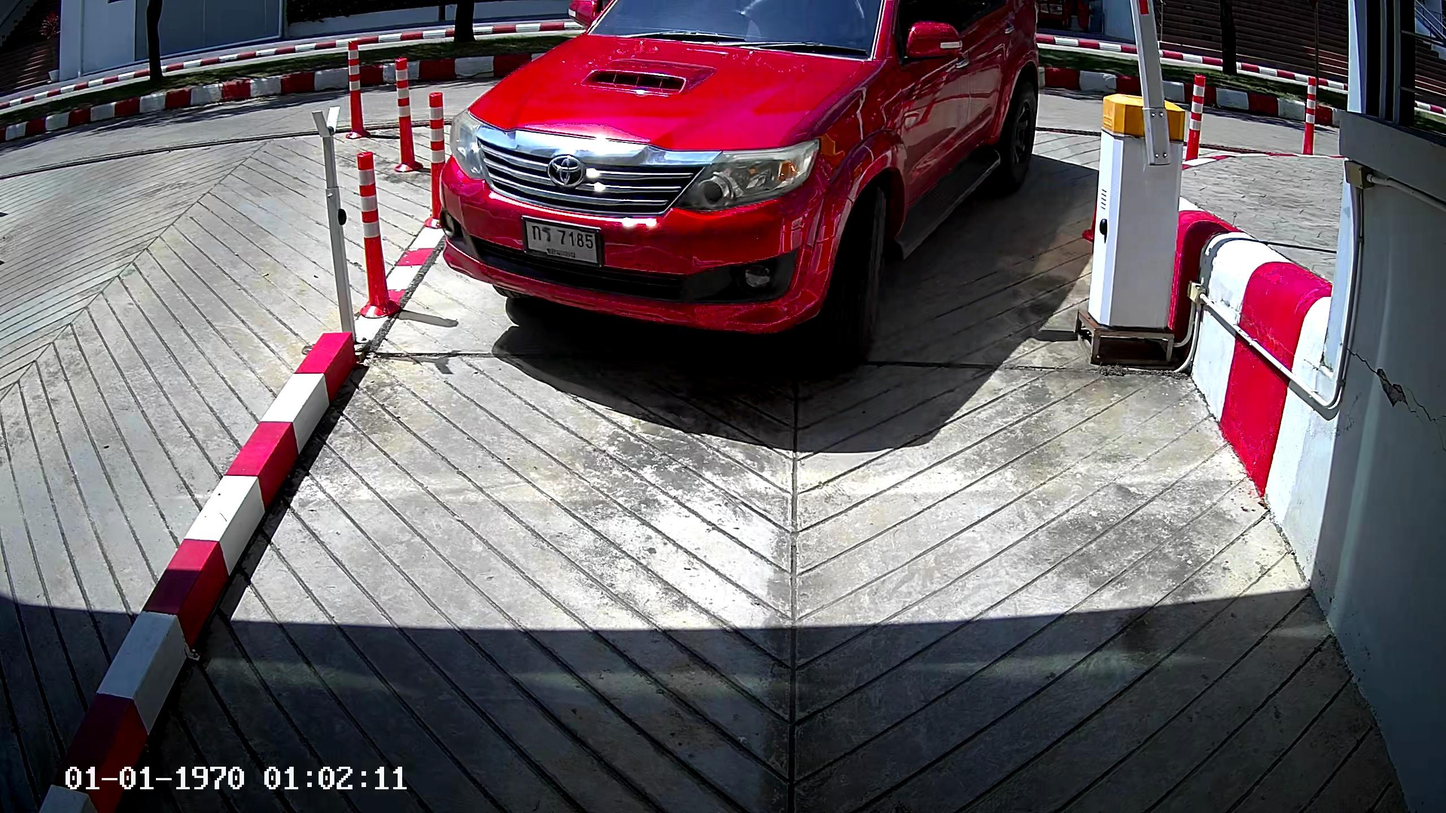car: (436, 3, 1042, 373)
license-plate: (521, 212, 604, 272)
